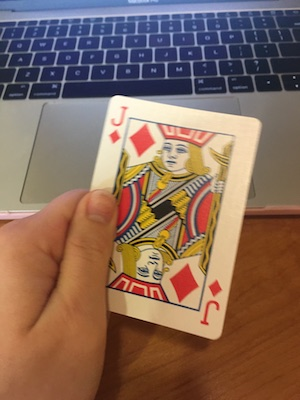JackOfDiamonds: (62, 89, 265, 352)
